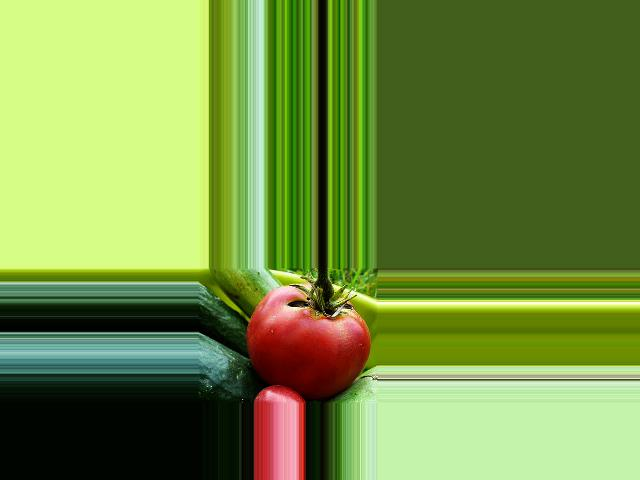tomato: (247, 285, 370, 401)
